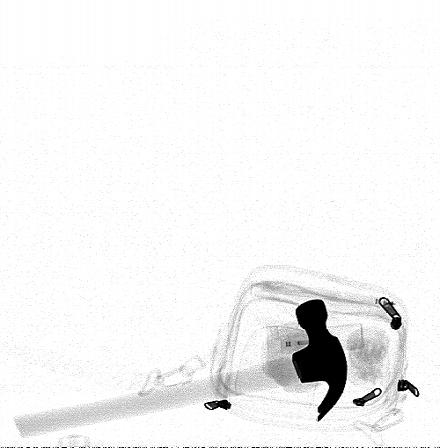Hammer: (13, 299, 348, 439)
